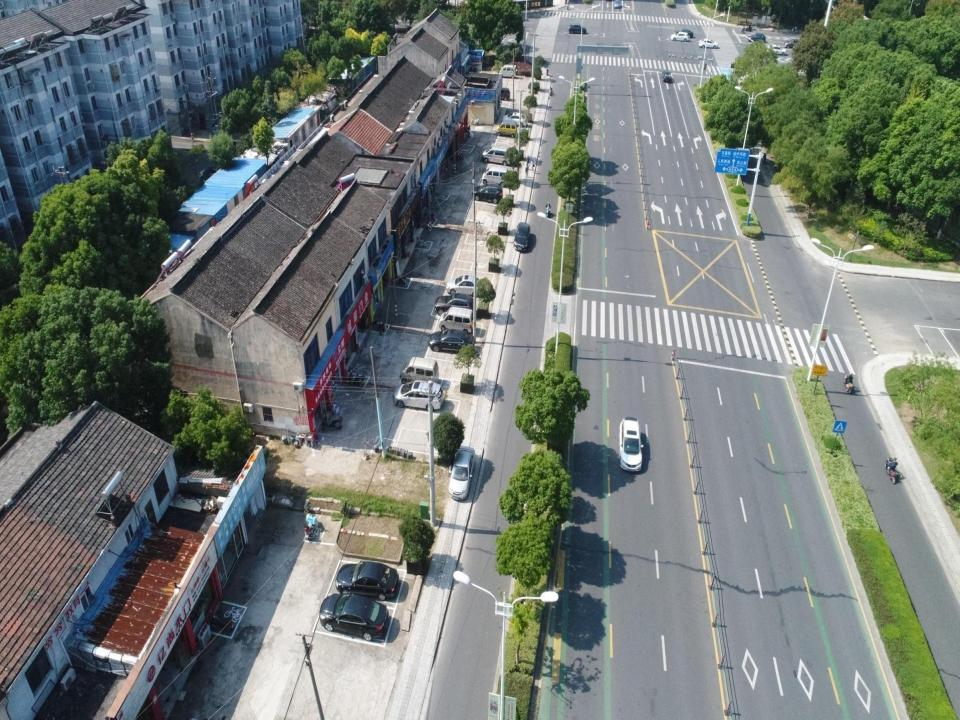car: (316, 594, 389, 640), (336, 562, 400, 600), (618, 415, 643, 474), (428, 328, 475, 356), (446, 273, 484, 297), (433, 292, 474, 314), (473, 181, 503, 203), (512, 221, 530, 254), (502, 111, 527, 127), (766, 43, 787, 57), (698, 38, 719, 50), (670, 31, 689, 42), (568, 23, 586, 34), (783, 37, 801, 48), (748, 34, 766, 43), (500, 88, 511, 102), (677, 29, 694, 38), (662, 70, 672, 84), (614, 0, 620, 10)
van: (392, 379, 444, 409), (447, 446, 474, 502), (439, 305, 476, 337), (400, 357, 439, 386), (480, 164, 514, 185), (482, 144, 509, 166), (496, 121, 516, 137), (499, 63, 516, 78)
